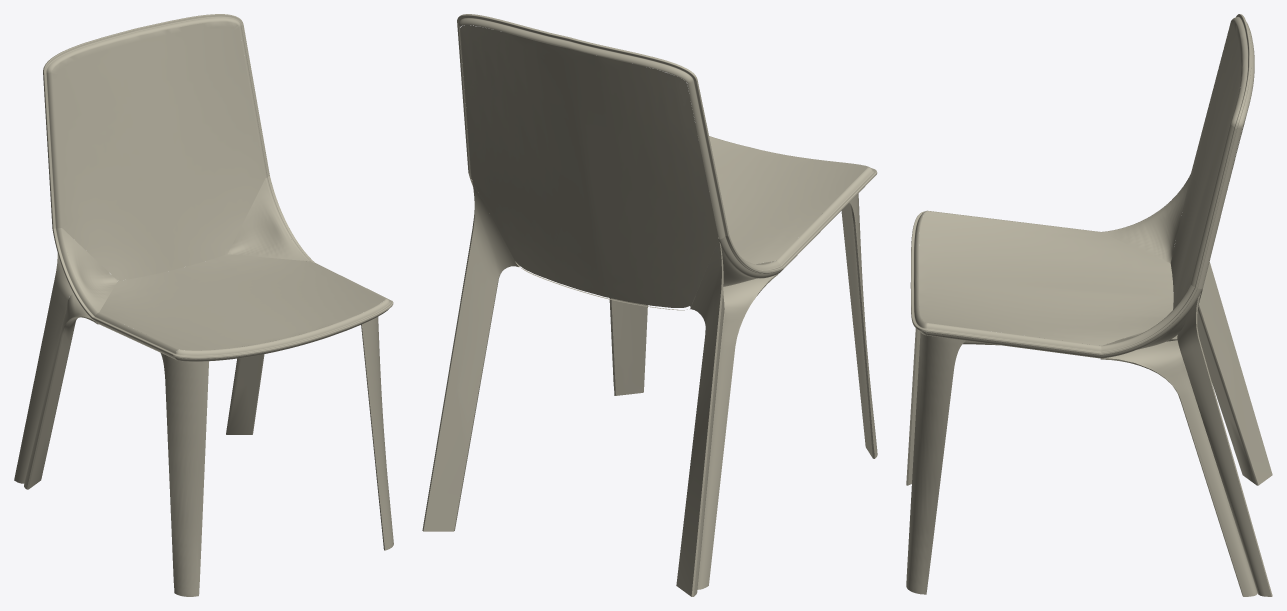
File: BHID01300.glb
3 renders of one model, left to right at view 1: azimuth 30°, elevation 25°; view 2: azimuth 150°, elevation 25°; view 3: azimuth 270°, elevation 25°, orthographic. The views are drawn at different scales.
Visible parts, largest first — view 1: BP_BHID01300; view 2: BP_BHID01300; view 3: BP_BHID01300.
Boxes of the visible parts, x1,y1,x2,y2 form: BP_BHID01300: (14,14,393,596); BP_BHID01300: (422,14,877,596); BP_BHID01300: (906,14,1272,596).
Size of the model in its own units: 0.4527 by 0.8255 by 0.5726.
